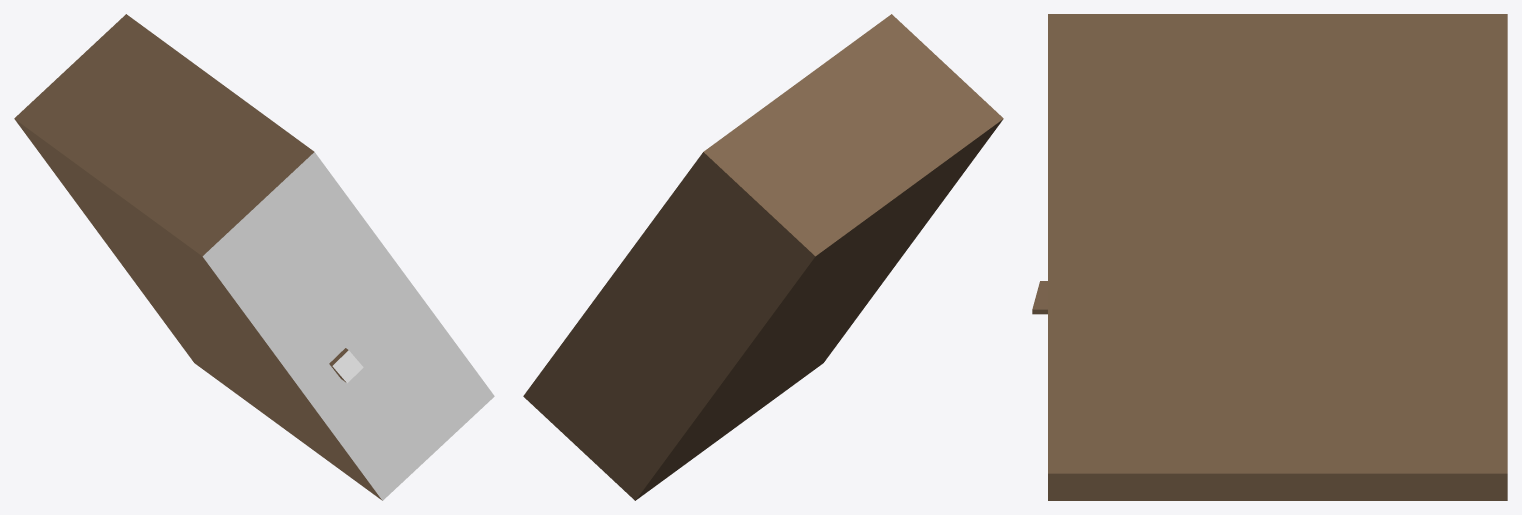
3 renders of one model, left to right at view 1: azimuth 30°, elevation 25°; view 2: azimuth 150°, elevation 25°; view 3: azimuth 270°, elevation 25°, orthographic. The views are drawn at different scales.
Visible parts, largest first — view 1: City_1885610; view 2: City_1885610; view 3: City_1885610.
Part boxes in pixels (left/top/right/bottom): City_1885610: left=14, top=14, right=494, bottom=500; City_1885610: left=523, top=14, right=1003, bottom=500; City_1885610: left=1032, top=14, right=1507, bottom=500.
Size of the model in its own units: 1176 by 1406 by 1357.
